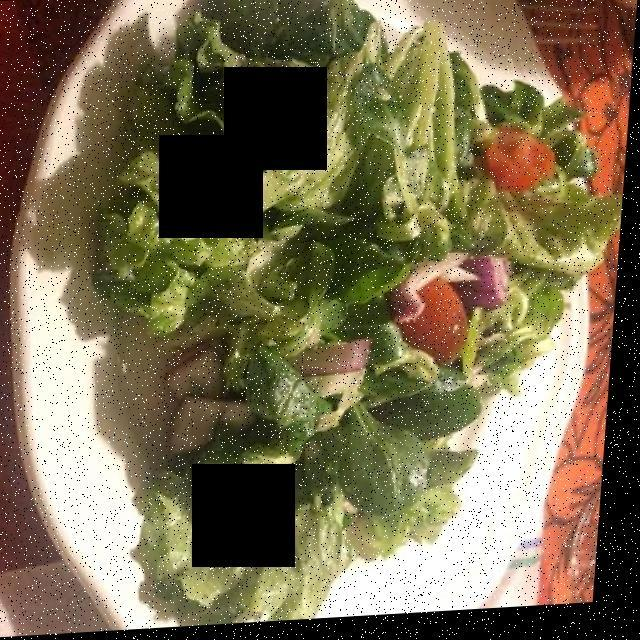salad: (103, 0, 609, 621)
tomato: (404, 273, 468, 366), (492, 122, 547, 186)
